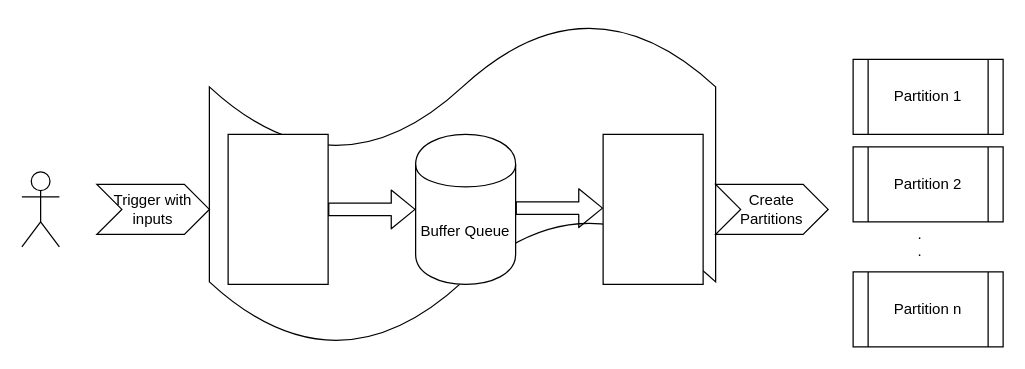
This 1025x369 diagram has some shape labels left out. The centre of each missing label's shape, as x and y in pixels:
Data Generator: point (277, 208)
Data Writer (Temporary Parquet Creator): point (652, 208)
User: point (40, 209)
